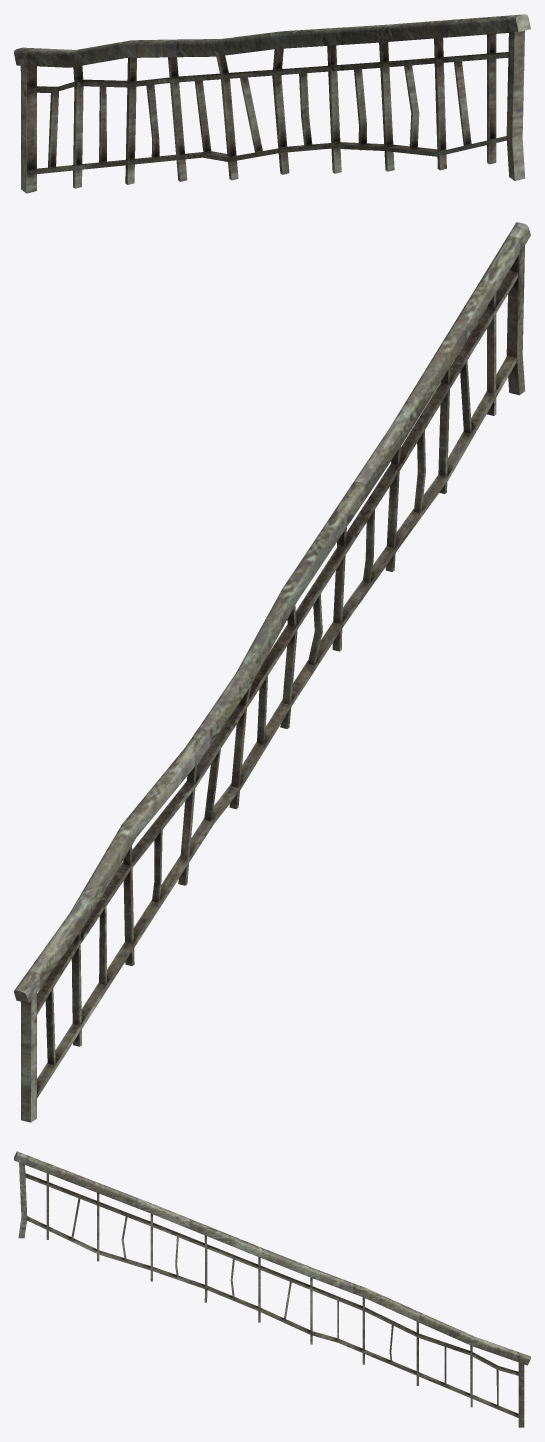
File: Railings_T01.FBX
3 renders of one model, top to bottom at view 1: azimuth 30°, elevation 25°; view 2: azimuth 150°, elevation 25°; view 3: azimuth 270°, elevation 25°, orthographic. The views are drawn at different scales.
Parts seen in each view (by area): view 1: Railings_T01; view 2: Railings_T01; view 3: Railings_T01.
Boxes of the visible parts, x1,y1,x2,y2 form: Railings_T01: (14, 14, 530, 193); Railings_T01: (14, 222, 530, 1122); Railings_T01: (14, 1151, 530, 1427).
Bounding box in the file's own units: 19.03 × 374 × 639.
